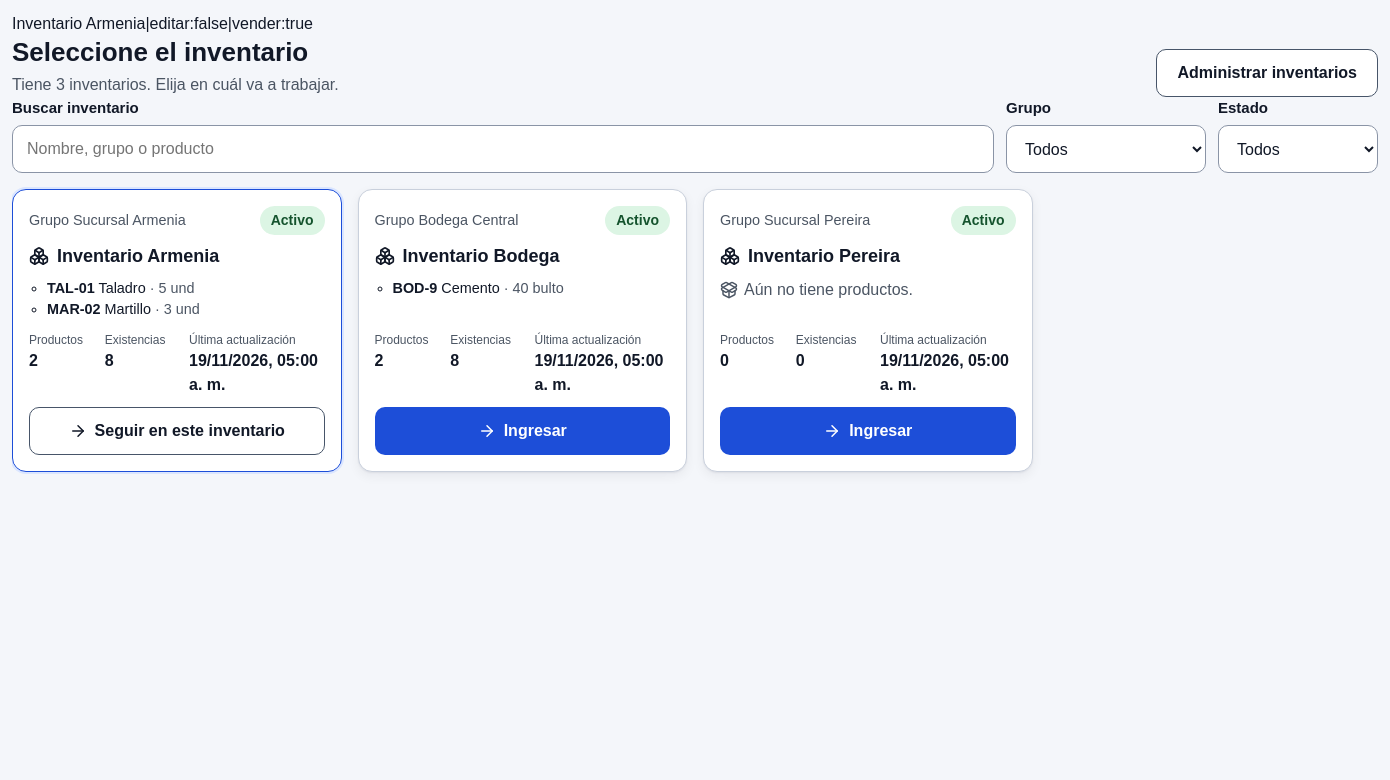
Test case: inventarios según la cantidad › con tres o más muestra el panel con datos reales y al ingresar usa ese inventario
The image size is (1390, 780).
Expected: the heading "Seleccione el inventario" is shown, x1=12 y1=36 x2=339 y2=68
Expected: the text "Grupo Sucursal Armenia" is shown, x1=29 y1=210 x2=186 y2=231
Type "cemento" into the search field labelled "Buscar inventario".
click(503, 149); type("cemento")  # box x1=12 y1=125 x2=994 y2=173
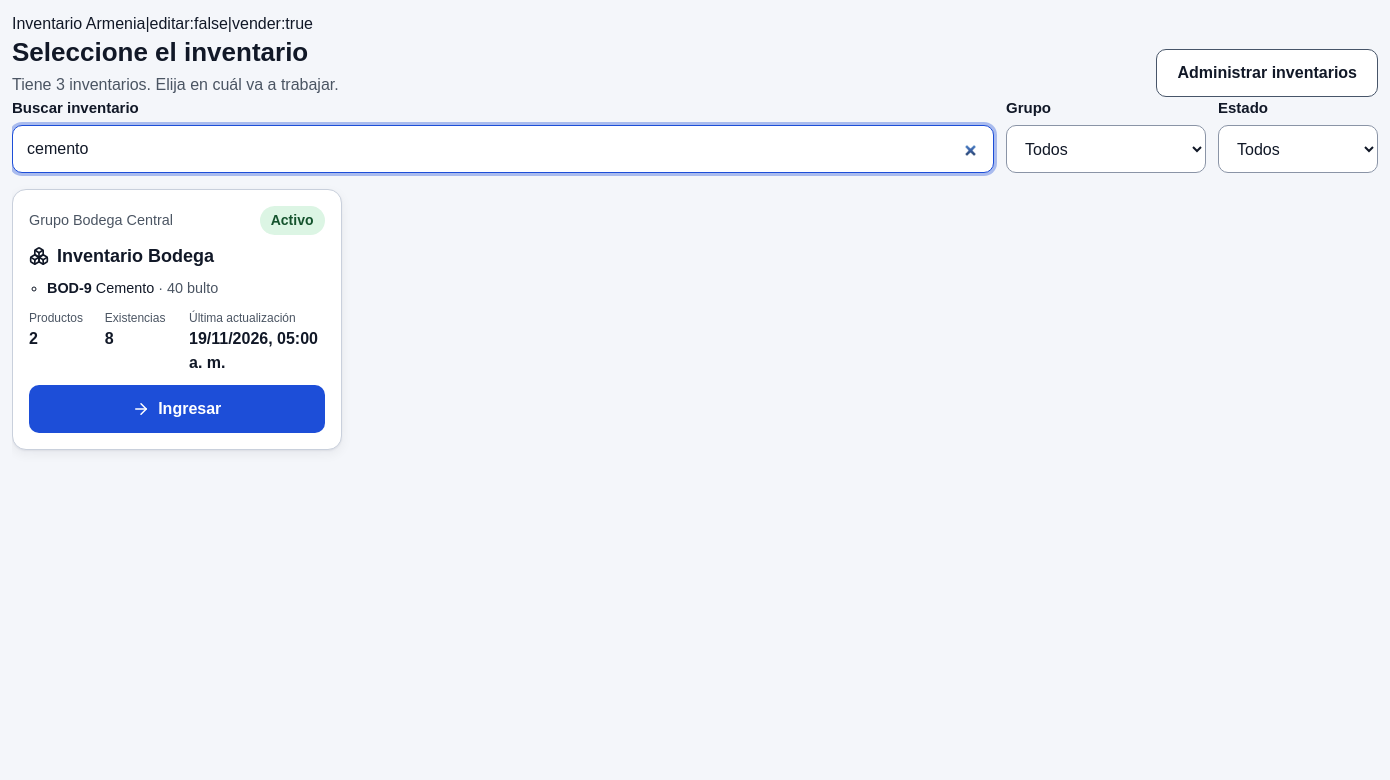
Click the button with aria-label "Ingresar a Inventario Bodega".
click(177, 409)  # box x1=29 y1=385 x2=324 y2=433
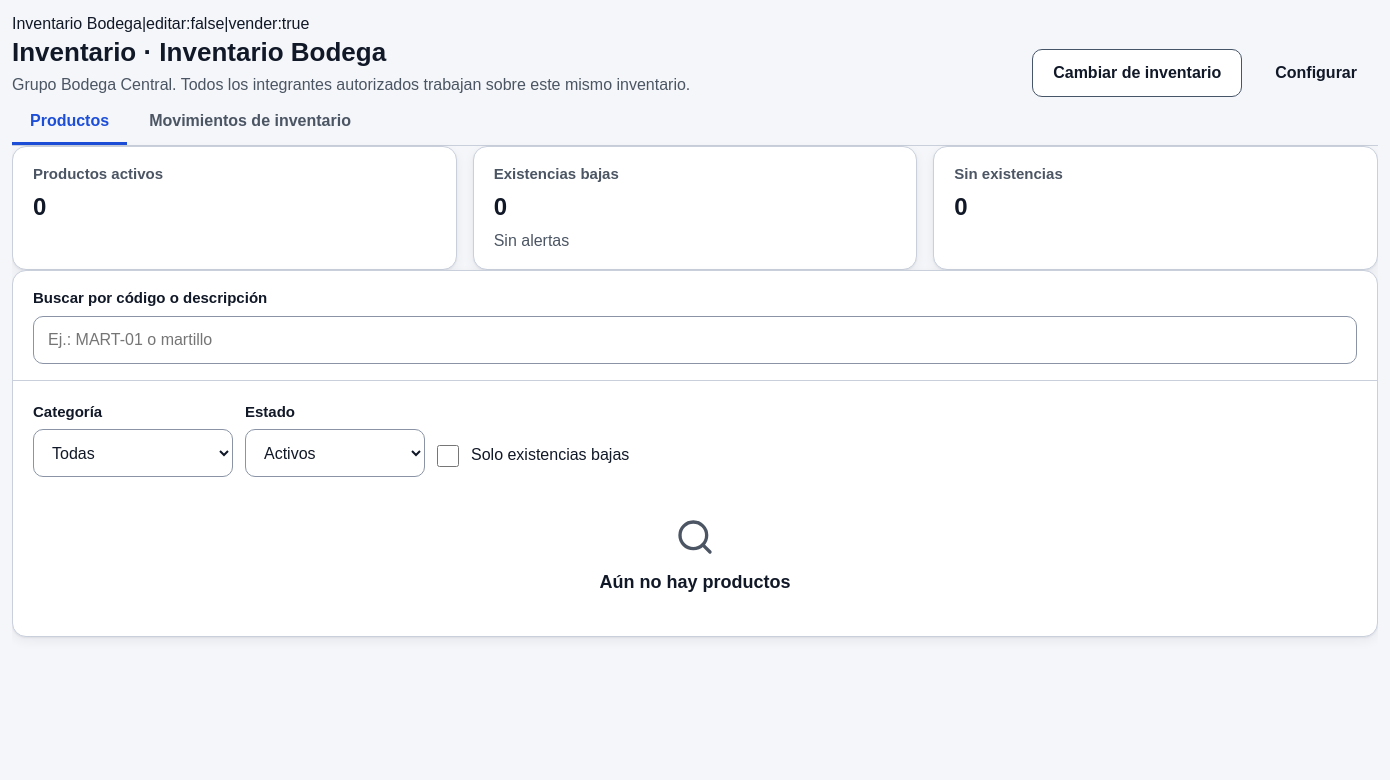
Expected: the heading "Inventario · Inventario Bodega" is shown, x1=12 y1=37 x2=386 y2=67
